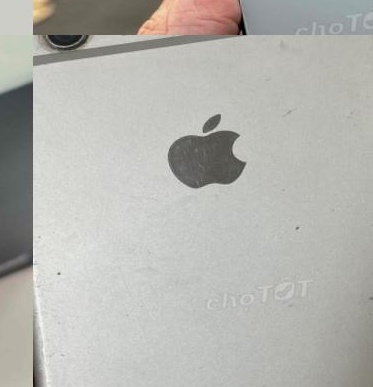scratch: (141, 87, 281, 213), (33, 35, 115, 65)
